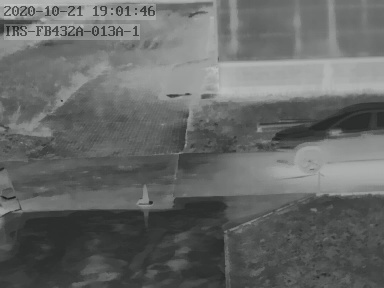vehicle: (272, 103, 384, 172)
